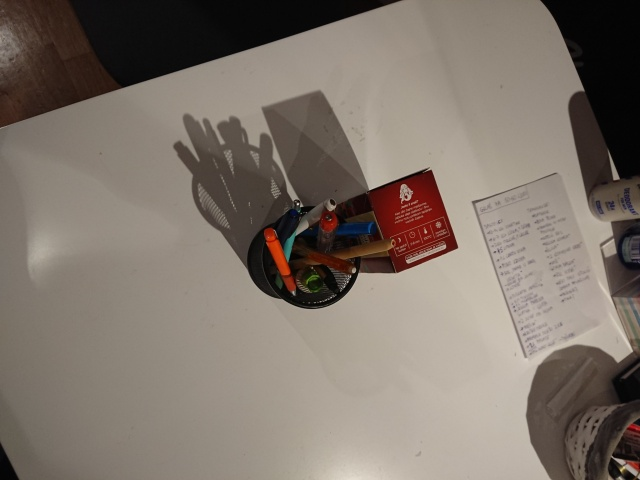Franck Apple Cinnamon Tea 60g: (306, 164, 462, 277)
